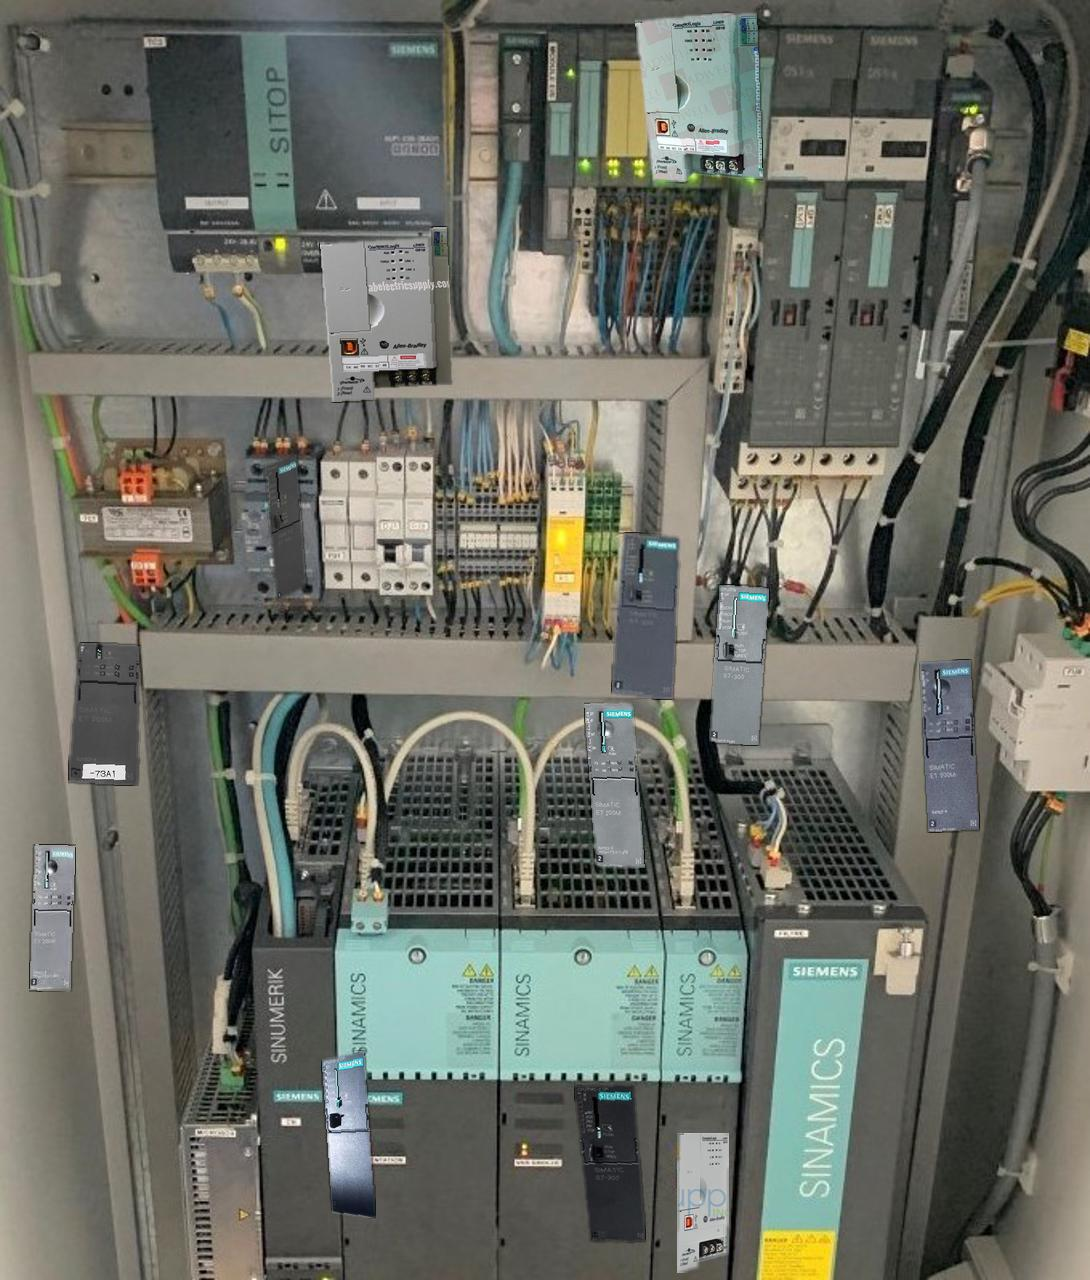AllenBradley: (320, 227, 452, 401), (635, 13, 762, 181), (677, 1133, 728, 1272)
Siemens: (612, 533, 678, 698), (575, 1085, 644, 1241), (710, 585, 768, 744), (322, 1051, 375, 1216), (265, 454, 305, 601)
